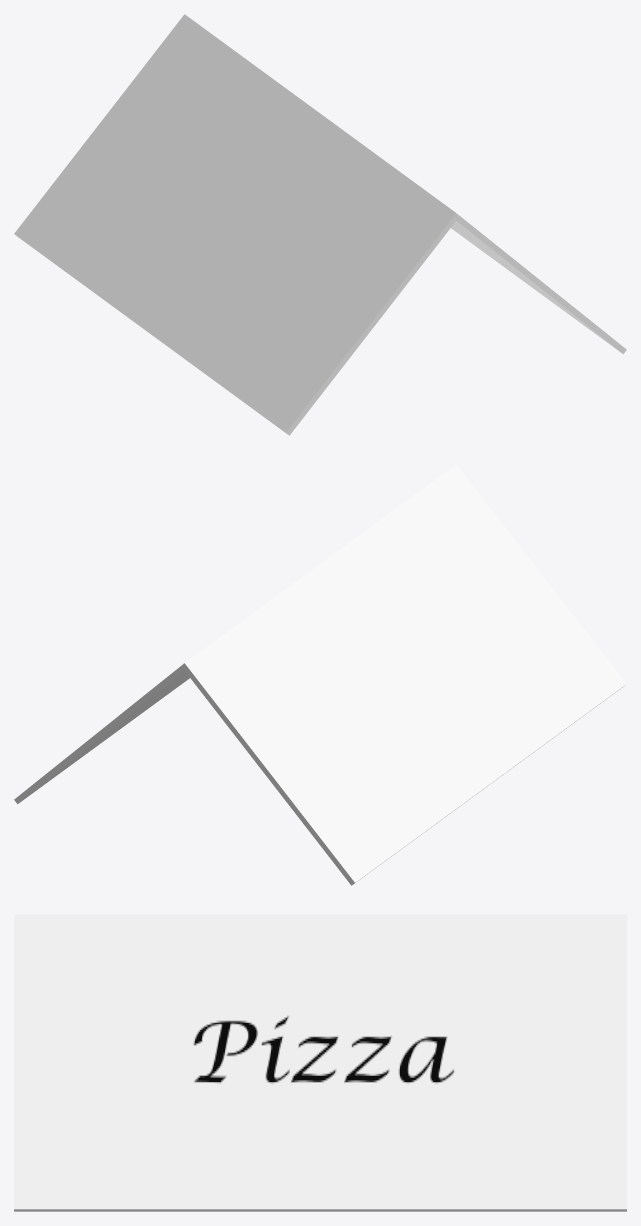
File: Card_Pizza.fbx
3 views of the same model, one above another, from view 1: azimuth 30°, elevation 25°; view 2: azimuth 150°, elevation 25°; view 3: azimuth 270°, elevation 25° (orthographic). The views are drawn at different scales.
Parts seen in each view (by area): view 1: Card_Pizza; view 2: Card_Pizza; view 3: Card_Pizza.
Part boxes in pixels (bbox=[...]): Card_Pizza: bbox=[14, 14, 626, 435]; Card_Pizza: bbox=[14, 464, 626, 885]; Card_Pizza: bbox=[14, 914, 626, 1211].
Bounding box in the file's own units: 7.3 × 3.72 × 10.08.
